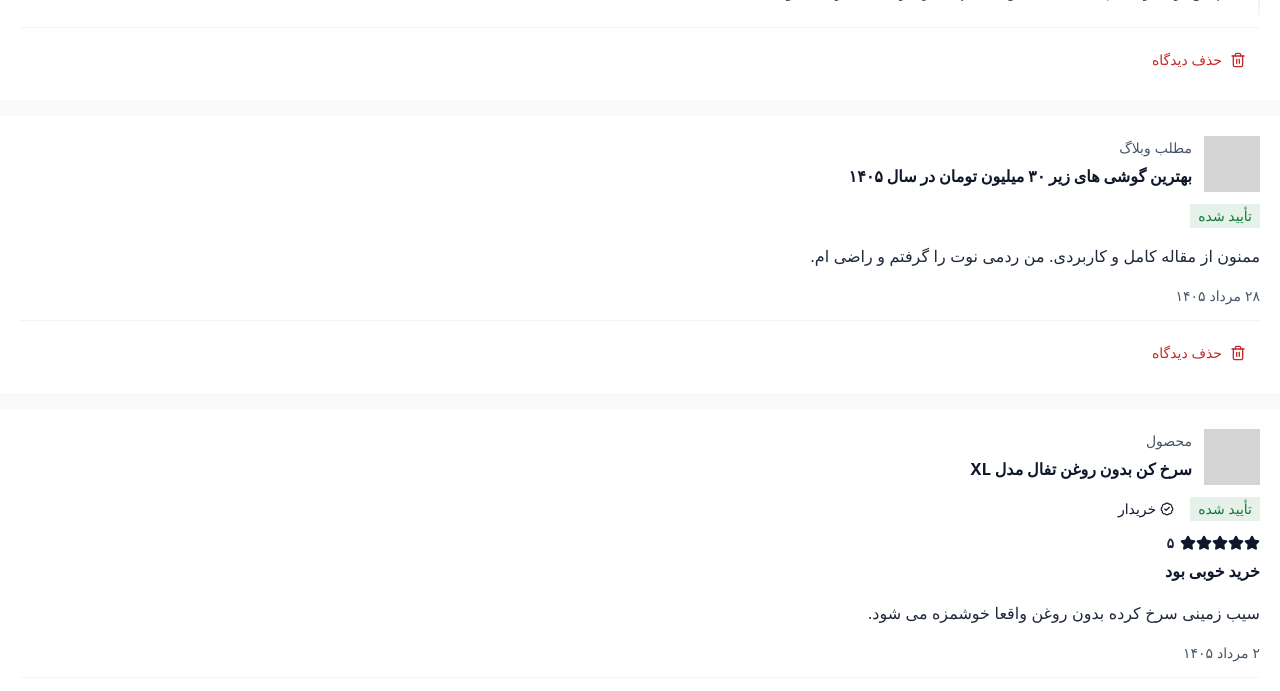
Test case: CommentsPage › another failure: the API’s message in the dialog, the row stays
The image size is (1280, 691).
(page scrolled)
Step 1. Click the button "حذف دیدگاه" below "۲۸ مرداد ۱۴۰۵" → (1199, 353), box [1138,333,1260,373]
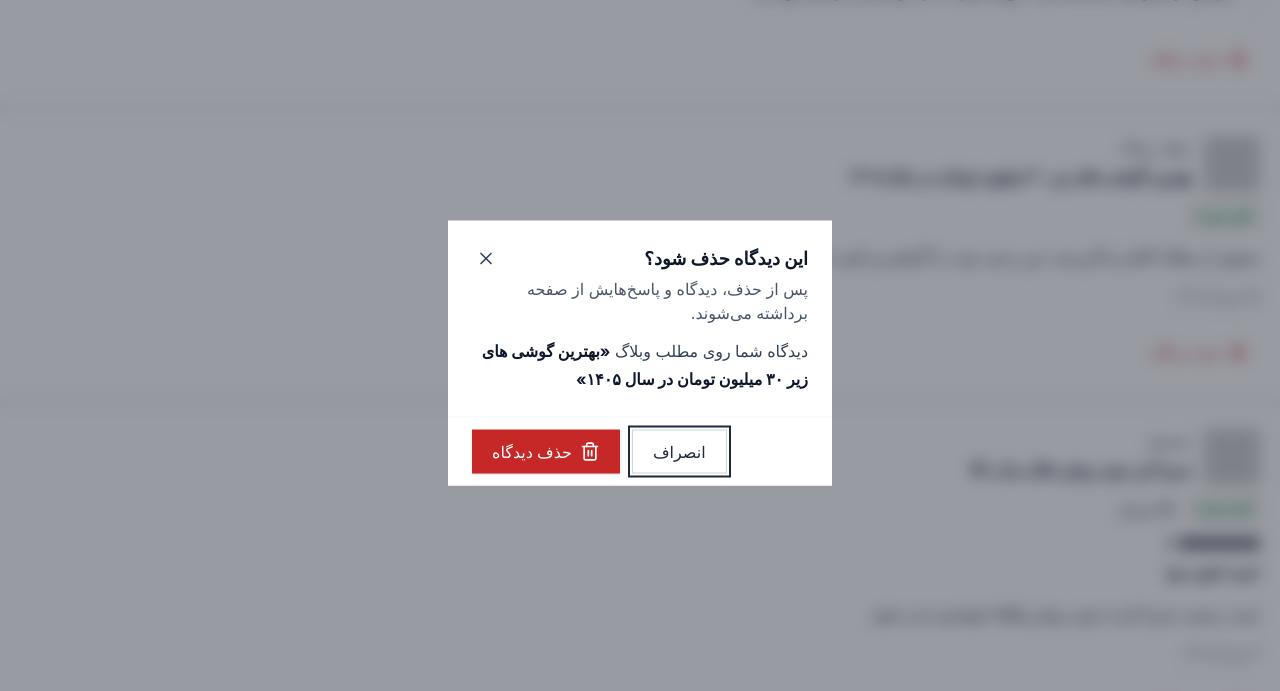
Step 2. Click the button "حذف دیدگاه" → (546, 452), box [472,430,620,474]
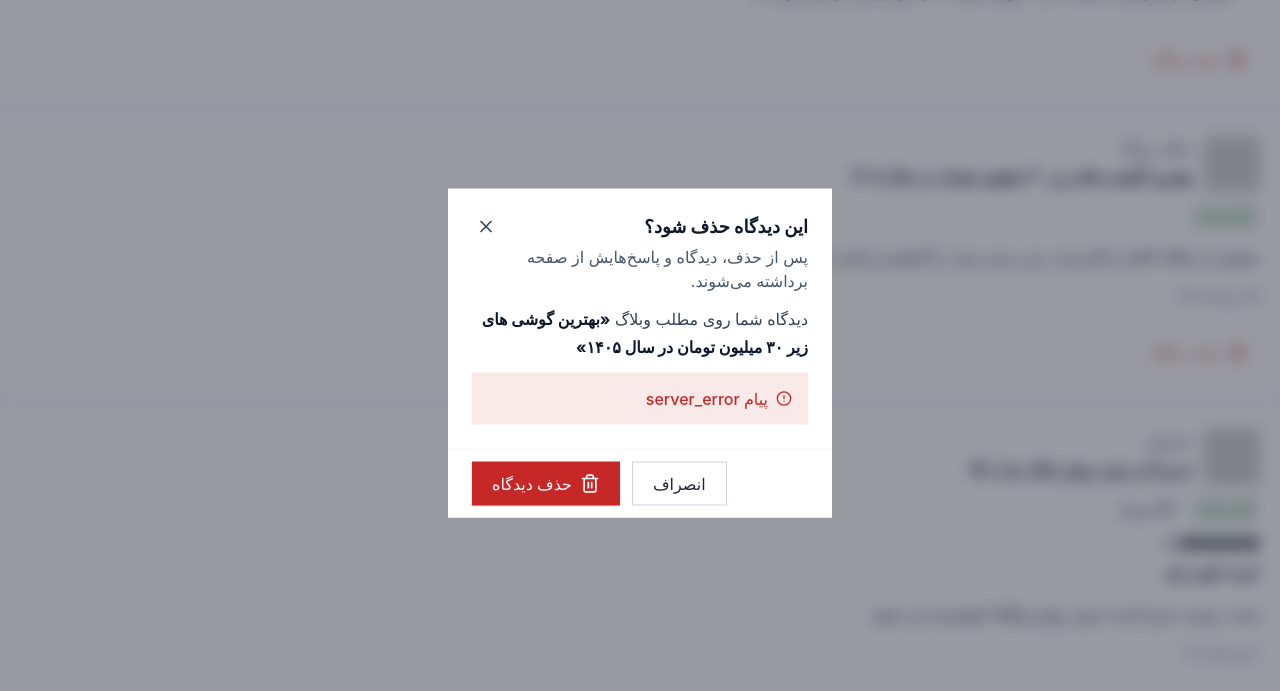
Result: the message reads "پیام server_error" at [646,388,768,408]
